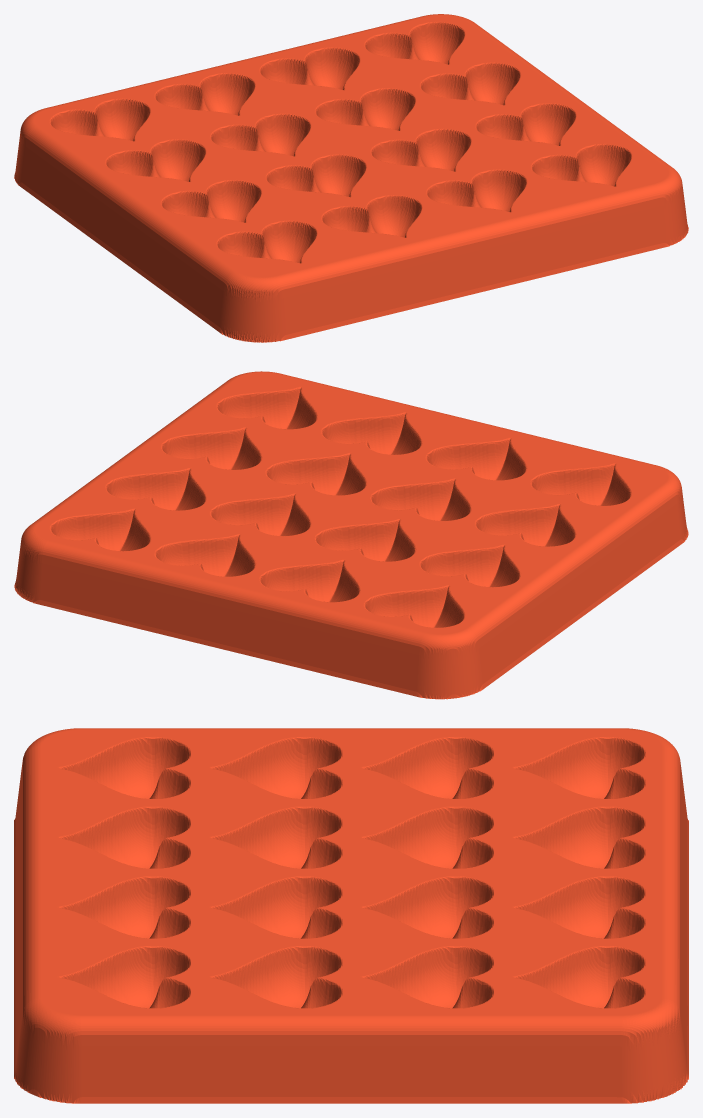
The model's file is mold.glb.
3 views of the same model, one above another, from view 1: azimuth 30°, elevation 25°; view 2: azimuth 150°, elevation 25°; view 3: azimuth 270°, elevation 25° (orthographic). The views are drawn at different scales.
Visible parts, largest first — view 1: geometry_0; view 2: geometry_0; view 3: geometry_0.
Part boxes in pixels (<box>): geometry_0: <box>14,14,688,342</box>; geometry_0: <box>14,371,688,699</box>; geometry_0: <box>14,728,688,1103</box>.
Size of the model in its own units: 0.0972 by 0.0114 by 0.09.
